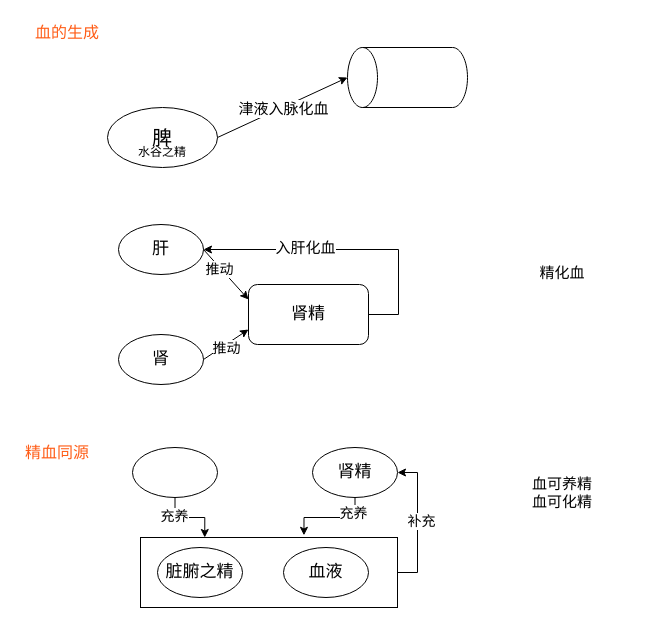
Image size: 664x625. Some labels were removed from this diagram. The shapes that lost their labels are listed below. From the top down, each one's box as (x1, y1, x2, y2) in pixels, then its label:
(346, 46, 468, 108): 脉管
(132, 446, 218, 498): 水谷精微
